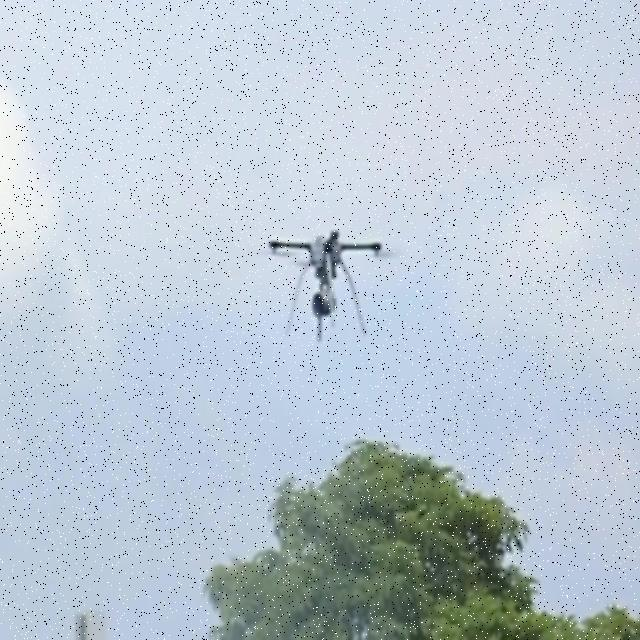UAV: (267, 229, 383, 343)
